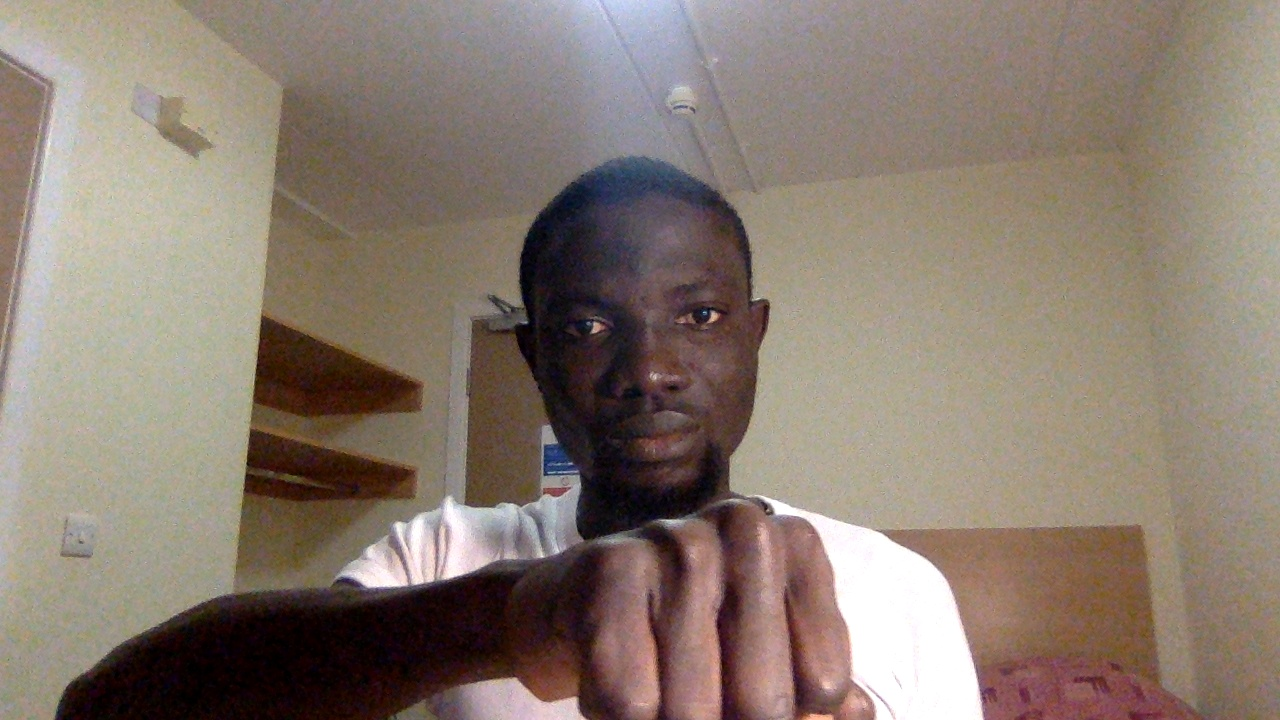Yes: (500, 488, 887, 720)
